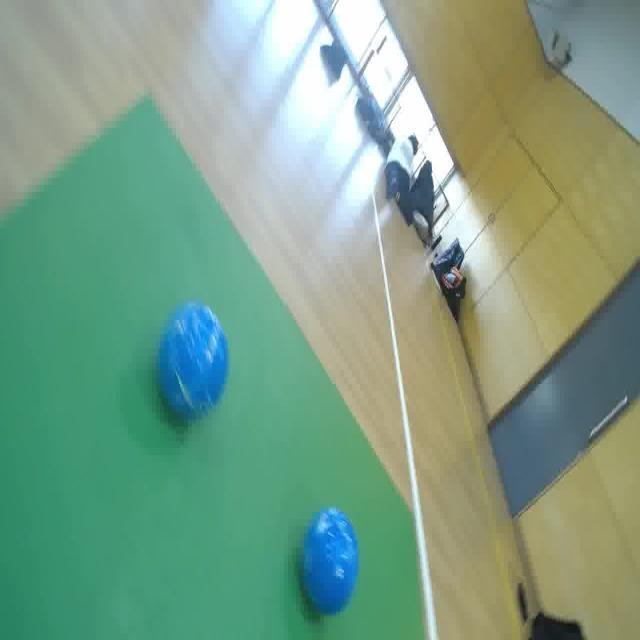blue_ball: (153, 300, 230, 422), (295, 502, 363, 618)
